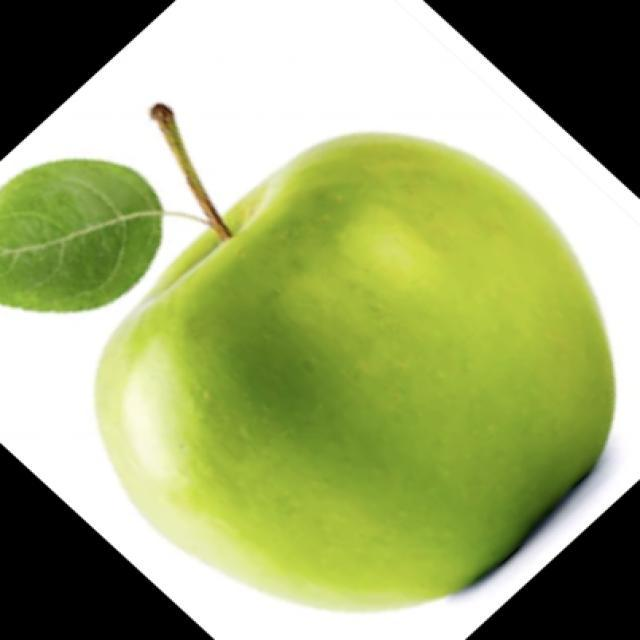Fresh Apple: (97, 130, 620, 612)
